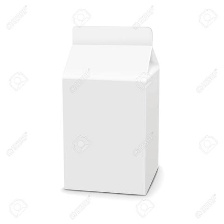carton: (60, 21, 165, 201)
